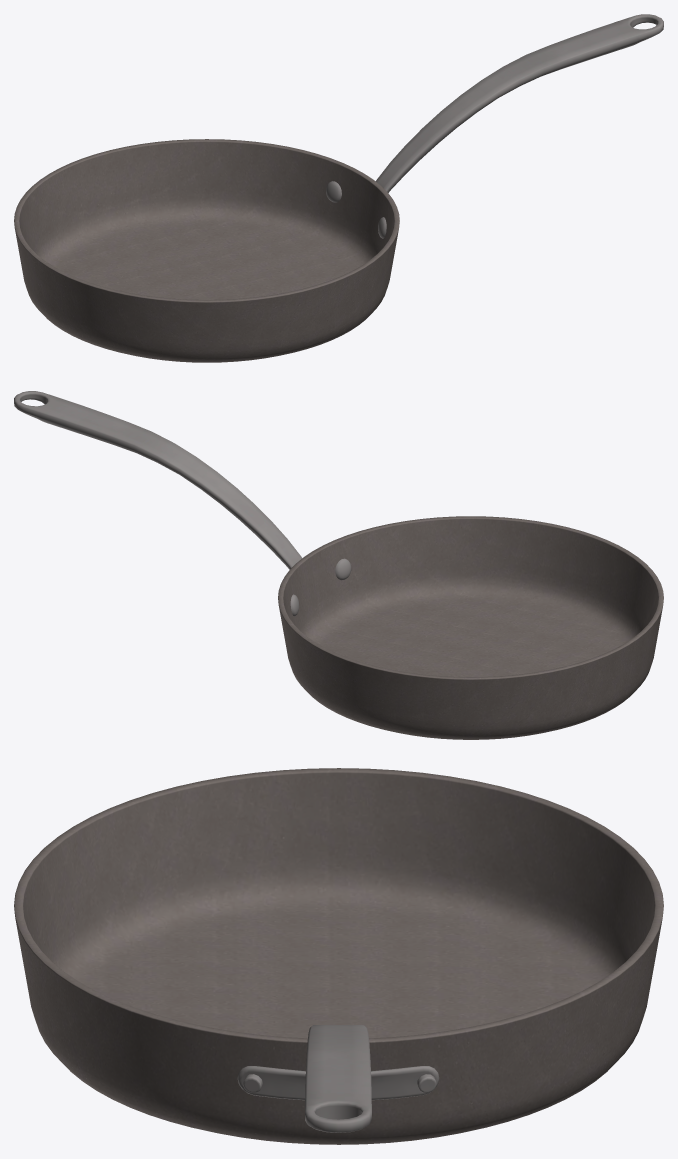
Rendered from padella28.glb.
3 renders of one model, top to bottom at view 1: azimuth 30°, elevation 25°; view 2: azimuth 150°, elevation 25°; view 3: azimuth 270°, elevation 25°, orthographic. The views are drawn at different scales.
Parts seen in each view (by area): view 1: contemporary_cookware_frying_pan_YBK2_FQ; view 2: contemporary_cookware_frying_pan_YBK2_FQ; view 3: contemporary_cookware_frying_pan_YBK2_FQ.
Part boxes in pixels (x1,y1,x2,y2): contemporary_cookware_frying_pan_YBK2_FQ: (14, 14, 663, 362); contemporary_cookware_frying_pan_YBK2_FQ: (14, 391, 663, 739); contemporary_cookware_frying_pan_YBK2_FQ: (14, 768, 663, 1144).
Bounding box in the file's own units: 59.34 × 15.05 × 31.91.
2 materials, 2 textured.
